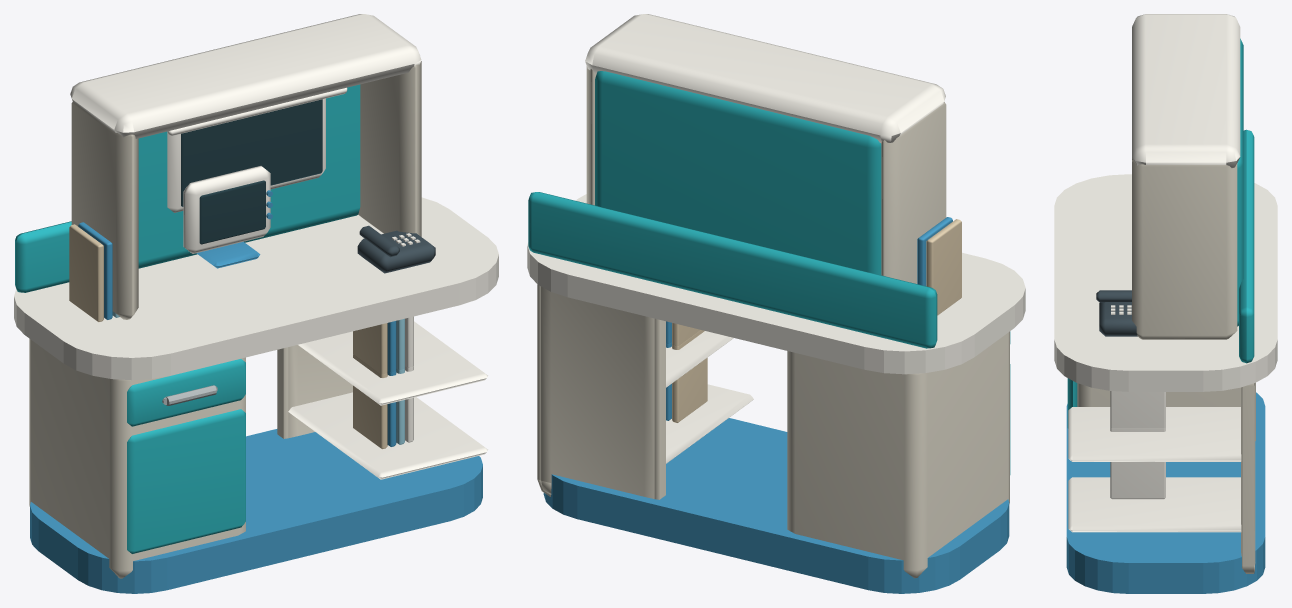
Rendered from TeamDesk_advanced.glb.
The picture shows the model from 3 angles, left to right: view 1: azimuth 30°, elevation 25°; view 2: azimuth 150°, elevation 25°; view 3: azimuth 270°, elevation 25°; orthographic projection. The views are drawn at different scales.
Visible parts, largest first — view 1: Static_white, Static_ivory, Static_blue, Static_teal, Door_Desk_door.001, Static_screen, Static_linen, Drawer_1, Static_dark, Static_lightblue; view 2: Static_ivory, Static_teal, Static_white, Static_blue, Static_linen; view 3: Static_white, Static_ivory, Static_blue, Static_teal, Static_dark, Door_Desk_door.001.
Boxes of the visible parts, x1,y1,x2,y2 form: Static_white: (14, 14, 498, 479); Static_ivory: (29, 61, 421, 578); Static_blue: (30, 190, 482, 593); Static_teal: (15, 84, 360, 292); Door_Desk_door.001: (127, 409, 245, 553); Static_screen: (181, 99, 322, 244); Static_linen: (69, 224, 387, 449); Drawer_1: (127, 359, 245, 426); Static_dark: (357, 225, 435, 273); Static_lightblue: (112, 311, 404, 444); Static_ivory: (537, 66, 1009, 578); Static_teal: (528, 71, 937, 348); Static_white: (527, 14, 1025, 463); Static_blue: (543, 217, 1009, 593); Static_linen: (672, 219, 961, 422); Static_white: (1054, 14, 1277, 532); Static_ivory: (1077, 157, 1255, 573); Static_blue: (1066, 392, 1265, 593); Static_teal: (1237, 38, 1254, 363); Static_dark: (1096, 290, 1137, 336); Door_Desk_door.001: (1067, 378, 1077, 428).
Bounding box in the file's own units: 1.5 × 1.5 × 0.72.
